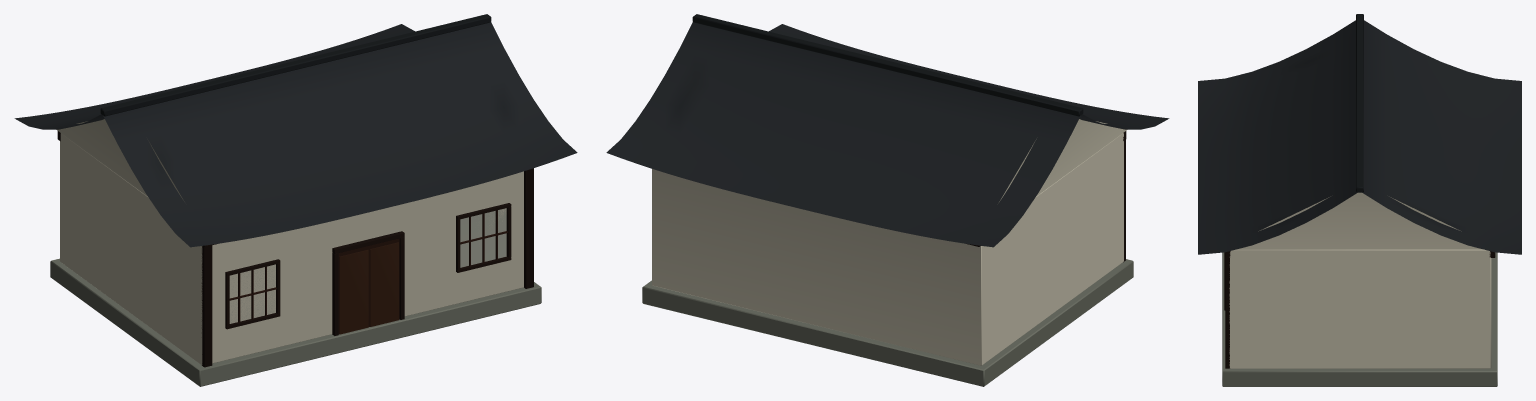
File: hz-house-fayun-a.glb
3 renders of one model, left to right at view 1: azimuth 30°, elevation 25°; view 2: azimuth 150°, elevation 25°; view 3: azimuth 270°, elevation 25°, orthographic. The views are drawn at different scales.
Visible parts, largest first — view 1: roof__tile, walls__plaster, plinth__stone, timber__wood, door__wood, glass__glass; view 2: roof__tile, walls__plaster, plinth__stone; view 3: roof__tile, walls__plaster, plinth__stone, timber__wood.
Boxes of the visible parts, x1=… form: roof__tile: x1=14, y1=14, x2=577, y2=247; walls__plaster: x1=56, y1=119, x2=523, y2=364; plinth__stone: x1=50, y1=258, x2=541, y2=386; timber__wood: x1=57, y1=131, x2=533, y2=367; door__wood: x1=338, y1=238, x2=399, y2=334; glass__glass: x1=460, y1=209, x2=506, y2=267; roof__tile: x1=606, y1=14, x2=1169, y2=247; walls__plaster: x1=652, y1=119, x2=1127, y2=365; plinth__stone: x1=642, y1=259, x2=1133, y2=386; roof__tile: x1=1198, y1=14, x2=1521, y2=254; walls__plaster: x1=1229, y1=192, x2=1491, y2=368; plinth__stone: x1=1222, y1=252, x2=1497, y2=386; timber__wood: x1=1224, y1=251, x2=1495, y2=368.
Size of the model in its own units: 9.4 by 5.3 by 7.4.
